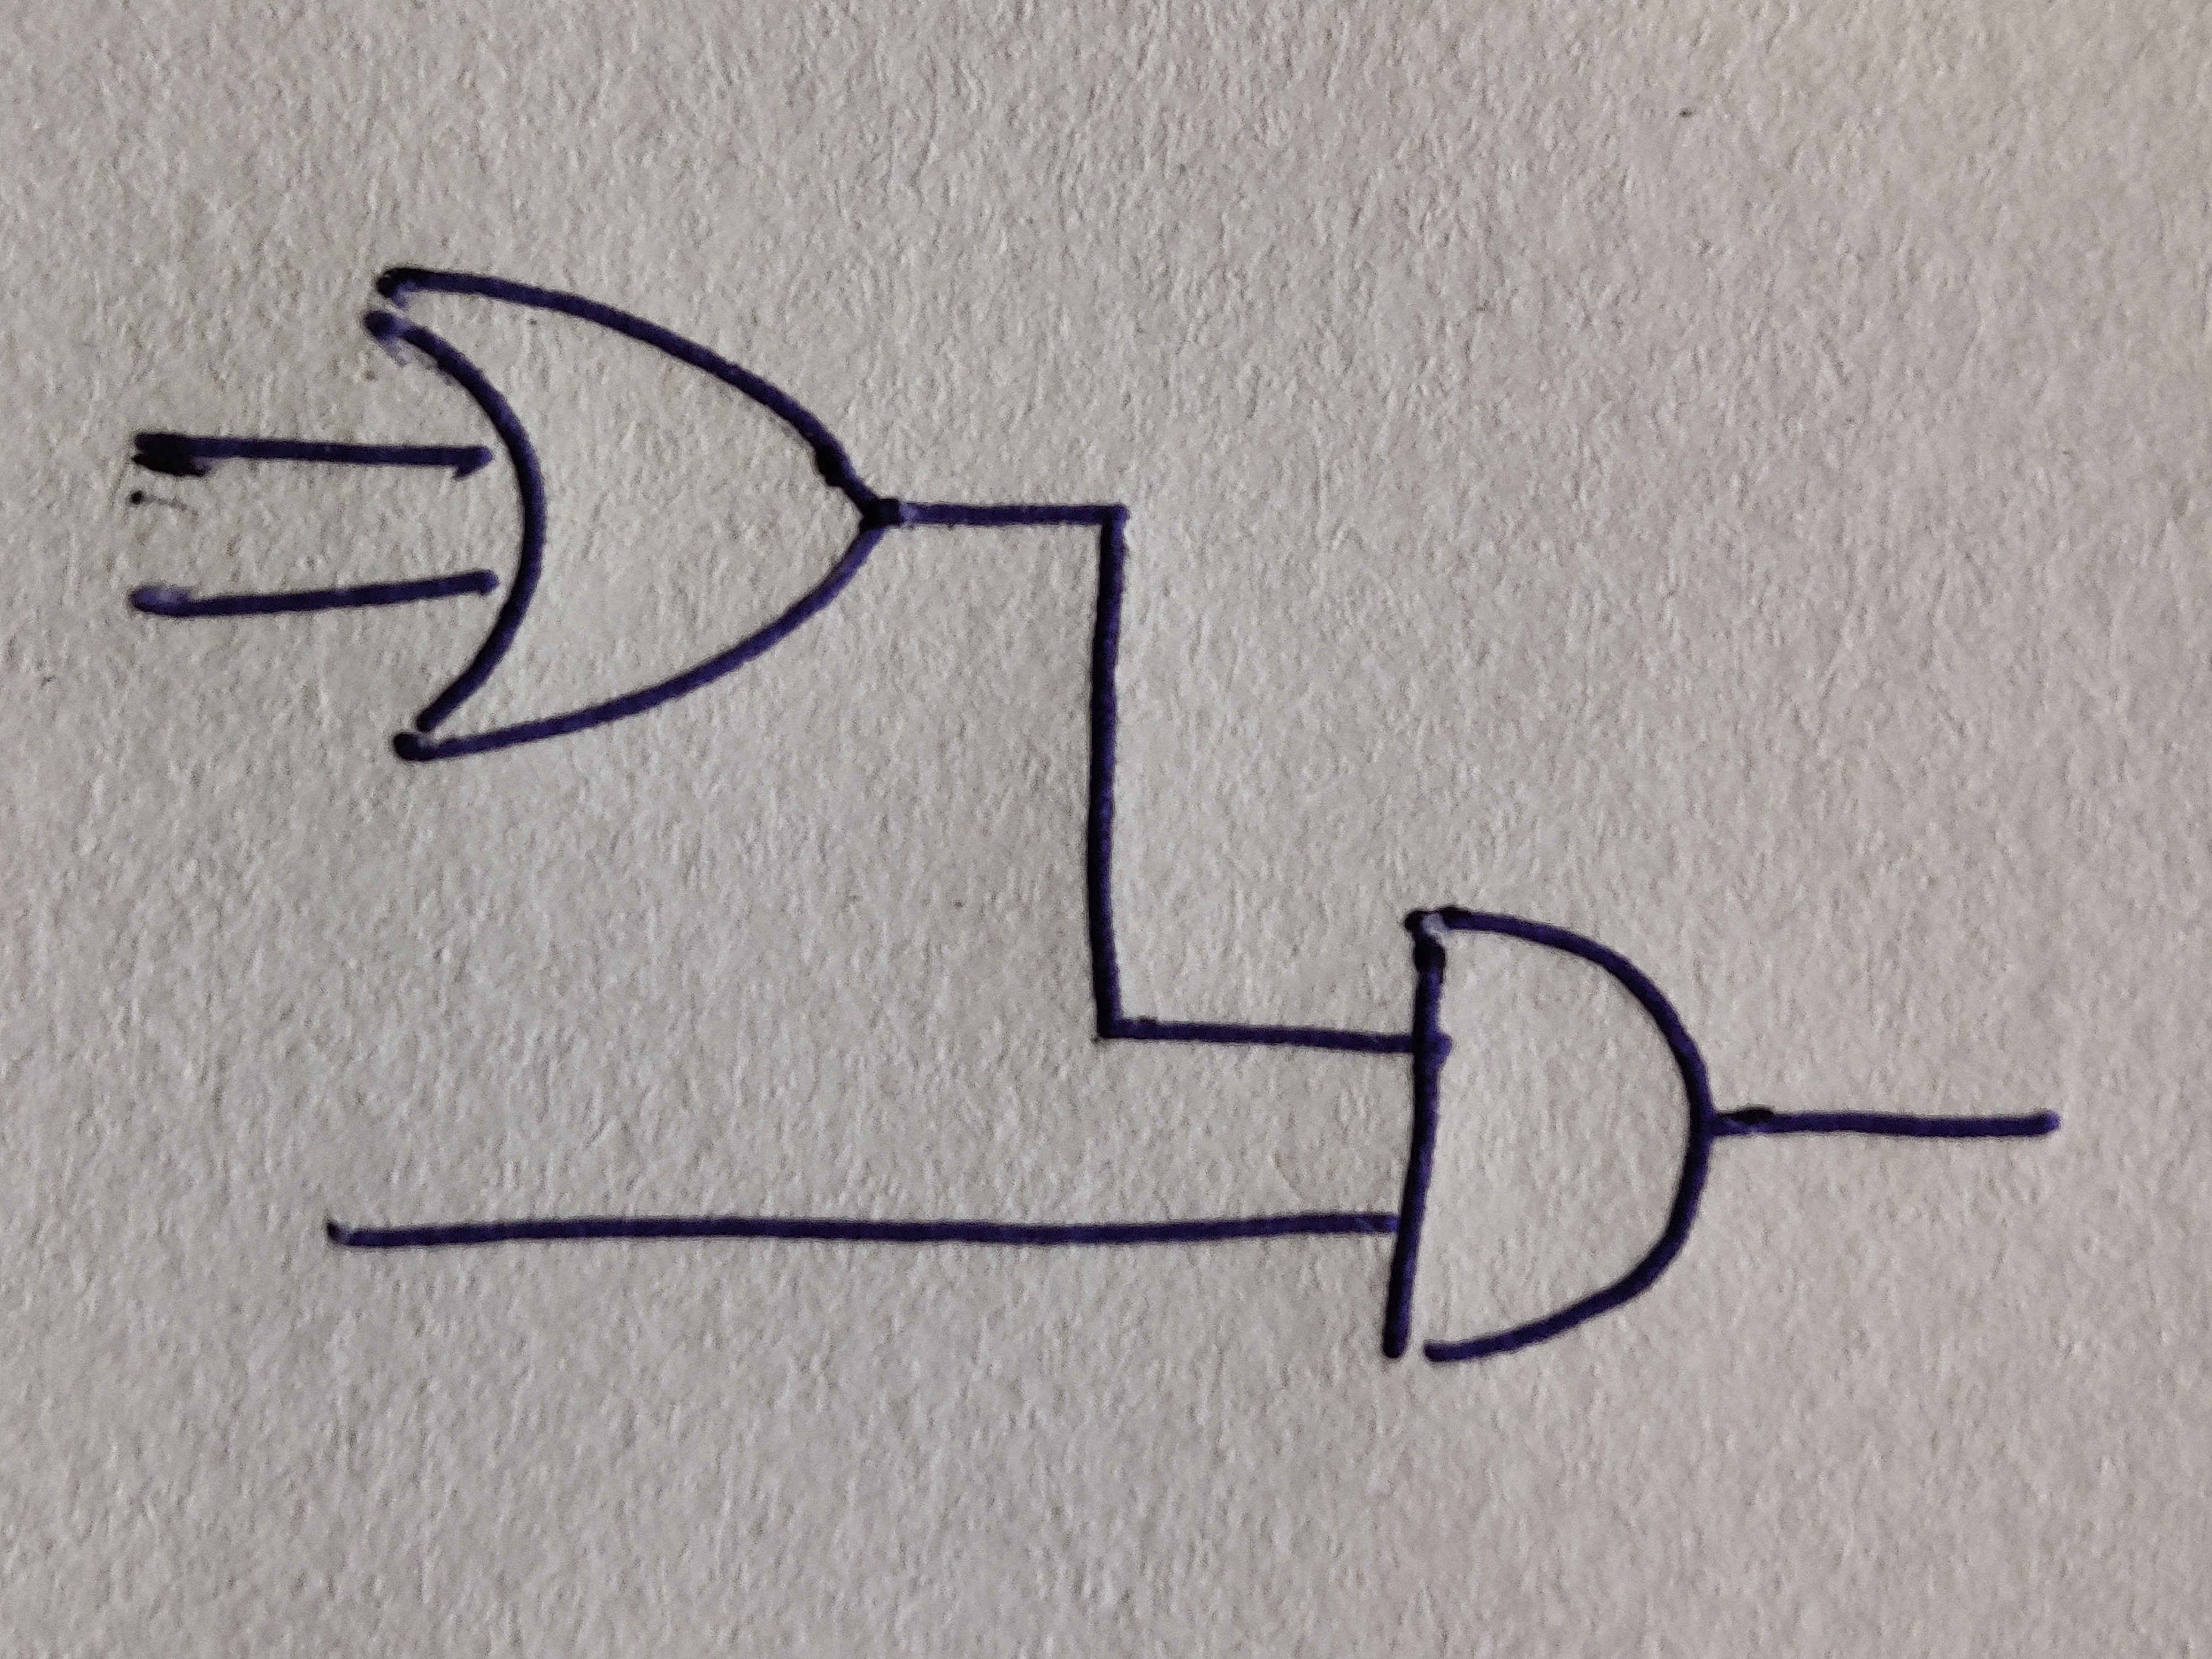and: (1379, 904, 1714, 1361)
or: (366, 268, 890, 765)
